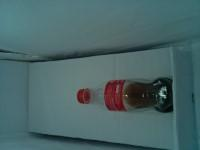bottle: (74, 80, 174, 112)
